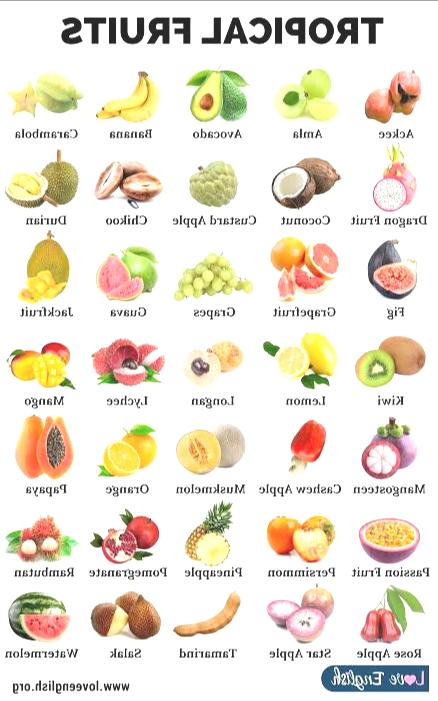chuoi: (94, 64, 158, 127)
mang_cut: (154, 57, 158, 98)
